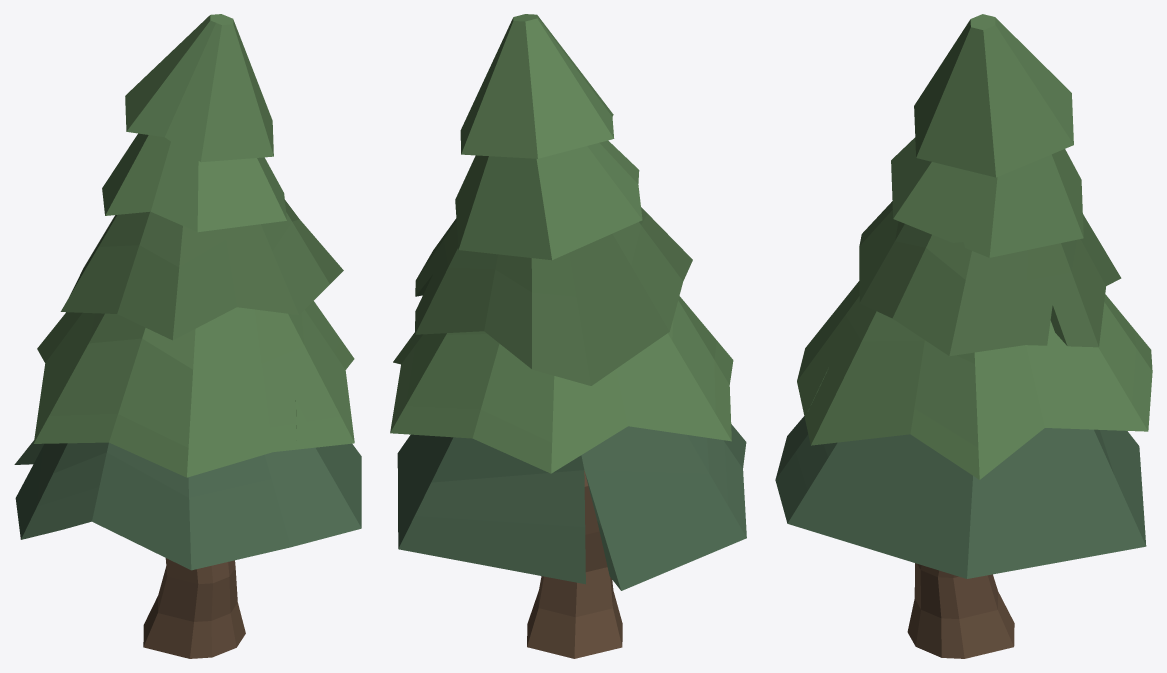
File: tree3.fbx
3 renders of one model, left to right at view 1: azimuth 30°, elevation 25°; view 2: azimuth 150°, elevation 25°; view 3: azimuth 270°, elevation 25°, orthographic. The views are drawn at different scales.
Visible parts, largest first — view 1: Cylinder.003; view 2: Cylinder.003; view 3: Cylinder.003.
Boxes of the visible parts, x1=… form: Cylinder.003: x1=14, y1=14, x2=361, y2=658; Cylinder.003: x1=390, y1=14, x2=746, y2=658; Cylinder.003: x1=775, y1=14, x2=1152, y2=658.
Bounding box in the file's own units: 288 × 486 × 262.
